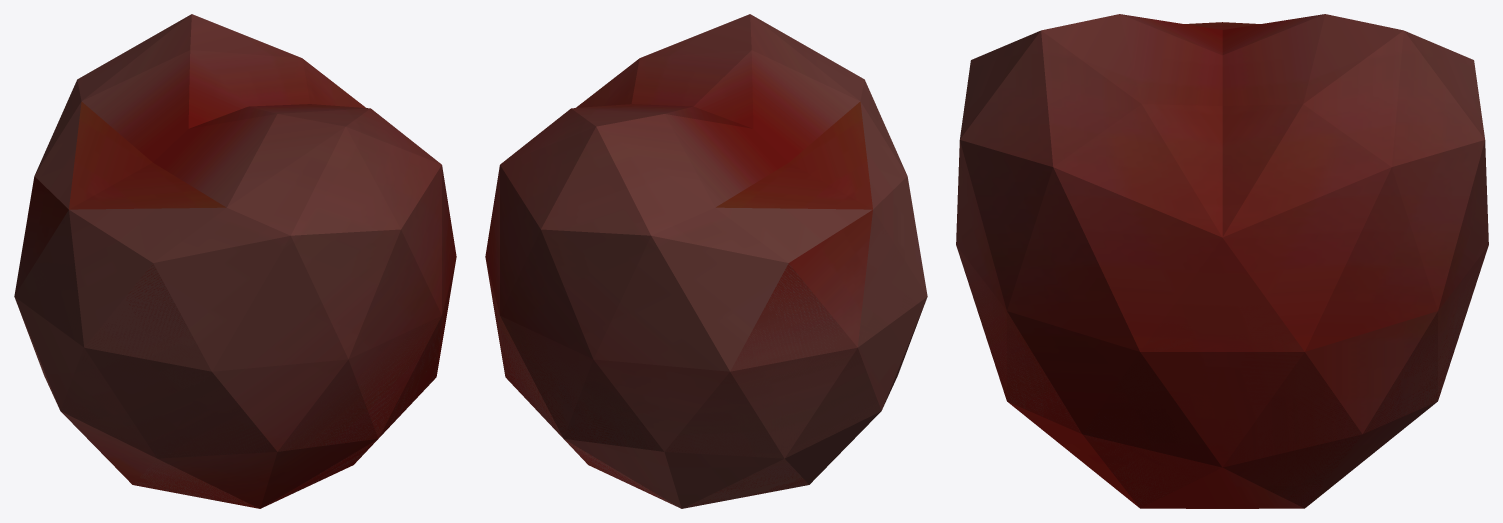
The model's file is DavyHeartModel.fbx.
3 views of the same model, side by side, from view 1: azimuth 30°, elevation 25°; view 2: azimuth 150°, elevation 25°; view 3: azimuth 270°, elevation 25° (orthographic). The views are drawn at different scales.
Visible parts, largest first — view 1: Icosphere; view 2: Icosphere; view 3: Icosphere.
Part boxes in pixels (bbox=[...]): Icosphere: bbox=[14, 14, 456, 508]; Icosphere: bbox=[485, 14, 927, 508]; Icosphere: bbox=[956, 14, 1488, 508].
Size of the model in its own units: 190 by 206 by 200.
Materials: 1 (1 with a texture image).
